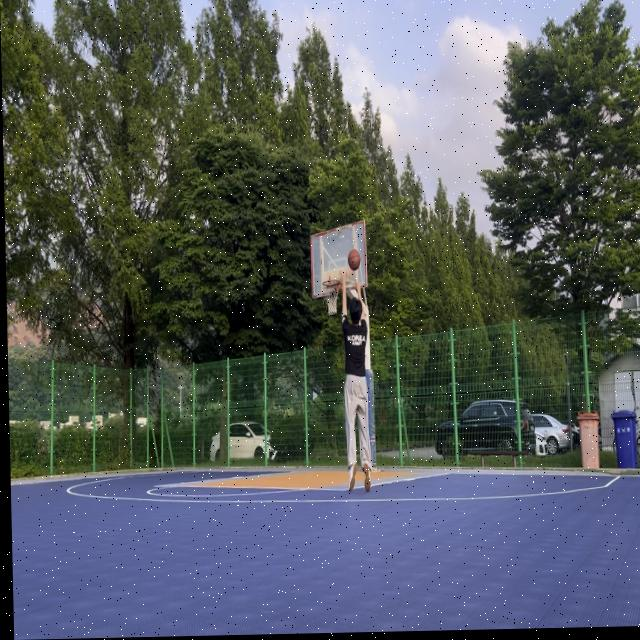basketball: (347, 248, 361, 271)
hoop: (322, 280, 341, 318)
